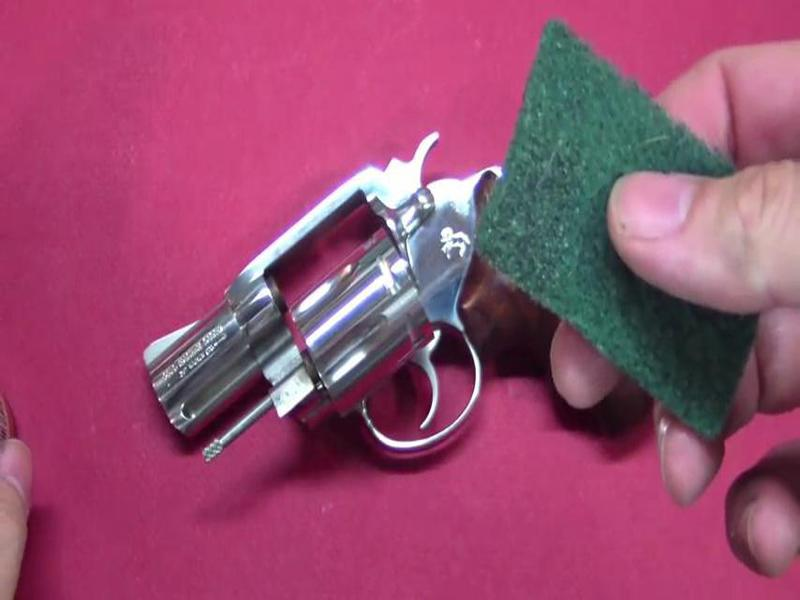Revolver: (120, 129, 588, 493)
